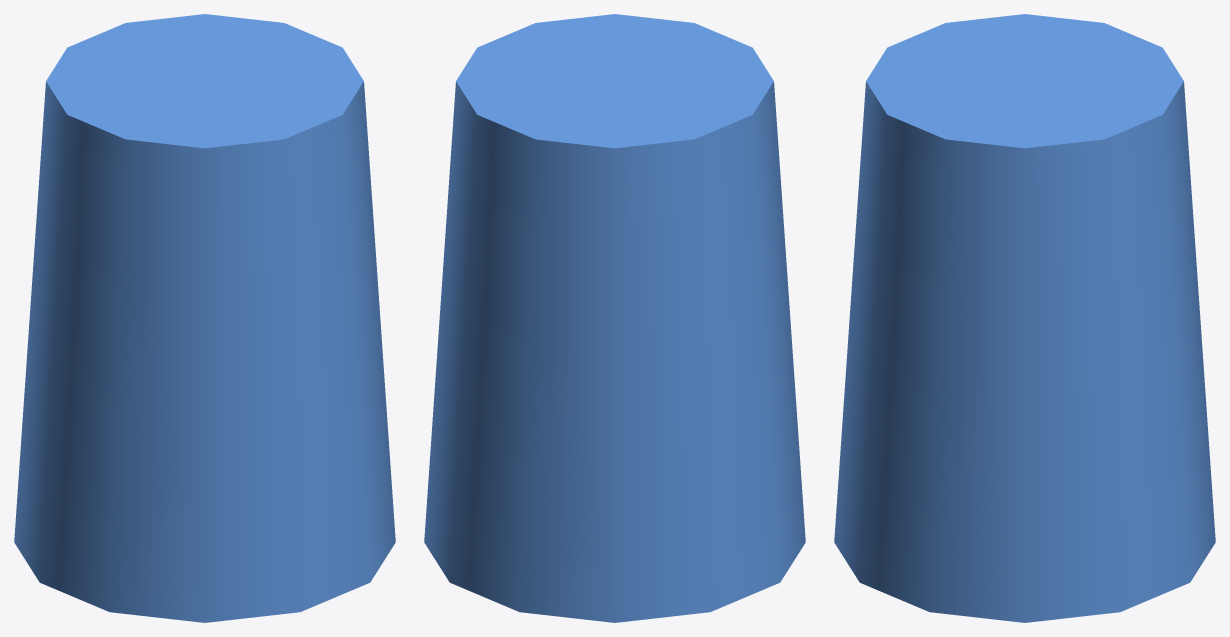
The model's file is extinguisher_water.glb.
3 views of the same model, side by side, from view 1: azimuth 30°, elevation 25°; view 2: azimuth 150°, elevation 25°; view 3: azimuth 270°, elevation 25° (orthographic).
Parts seen in each view (by area): view 1: extinguisher_water-node; view 2: extinguisher_water-node; view 3: extinguisher_water-node.
Boxes of the visible parts, x1,y1,x2,y2 form: extinguisher_water-node: (14,14,395,622); extinguisher_water-node: (424,14,805,622); extinguisher_water-node: (834,14,1215,622).
Bounding box in the file's own units: 0.6 × 0.8 × 0.6.
